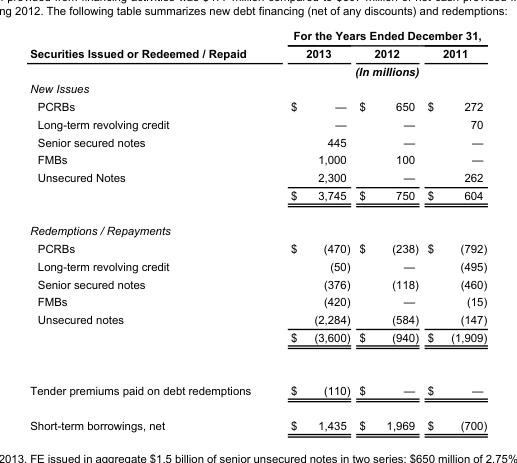table: (29, 28, 486, 431)
table column: (29, 28, 270, 431), (270, 28, 353, 431), (353, 28, 422, 431), (422, 28, 486, 431)
table column header: (29, 28, 486, 79)
table projected row header: (29, 212, 486, 239), (29, 79, 486, 97)
table row: (29, 363, 486, 407), (29, 327, 486, 363), (29, 212, 486, 239), (29, 186, 486, 212), (29, 407, 486, 431), (29, 61, 486, 79), (29, 79, 486, 97), (29, 97, 486, 115), (29, 132, 486, 150), (29, 150, 486, 168), (29, 168, 486, 186), (29, 256, 486, 274), (29, 274, 486, 292), (29, 292, 486, 310), (29, 44, 486, 61), (29, 115, 486, 132), (29, 239, 486, 256), (29, 310, 486, 327), (29, 28, 486, 44)
table spanning cell: (29, 28, 270, 79), (270, 61, 486, 79), (270, 28, 486, 44)
